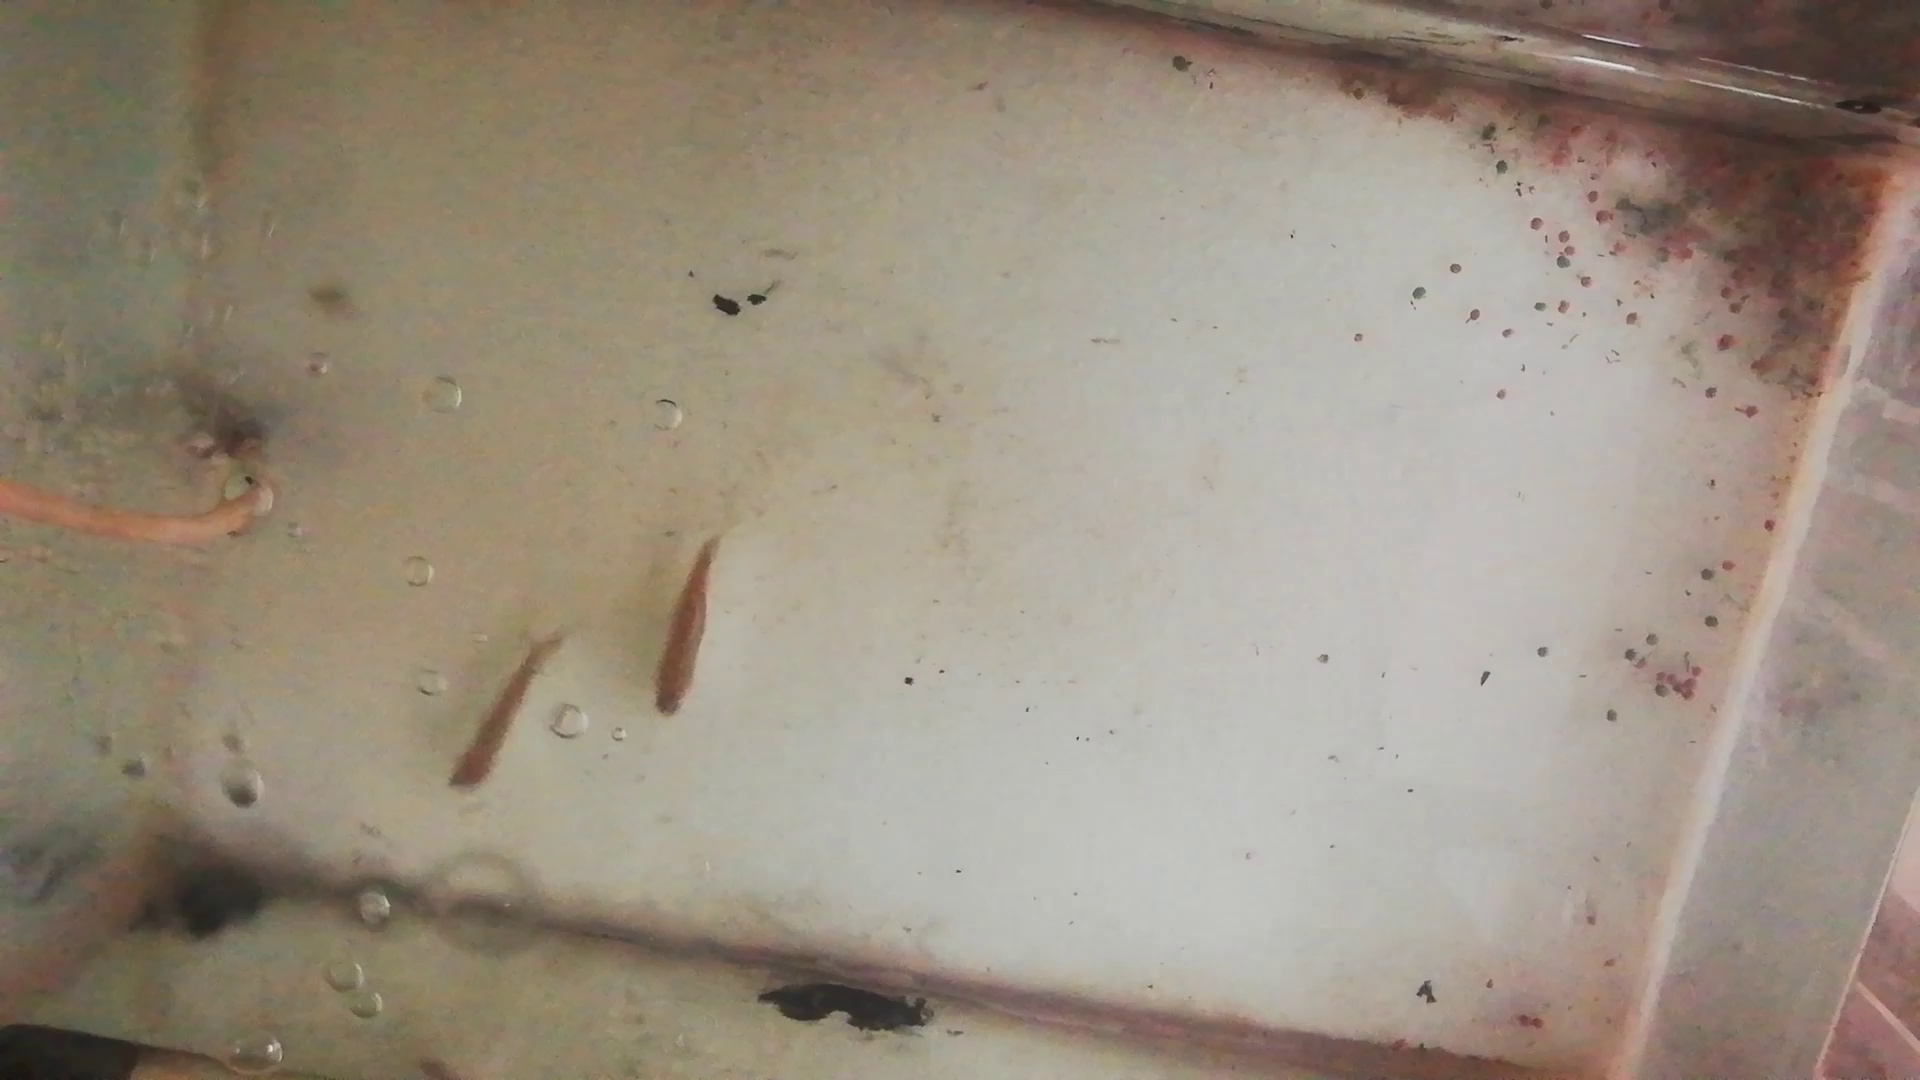fish: (444, 633, 568, 796), (649, 541, 717, 707)
